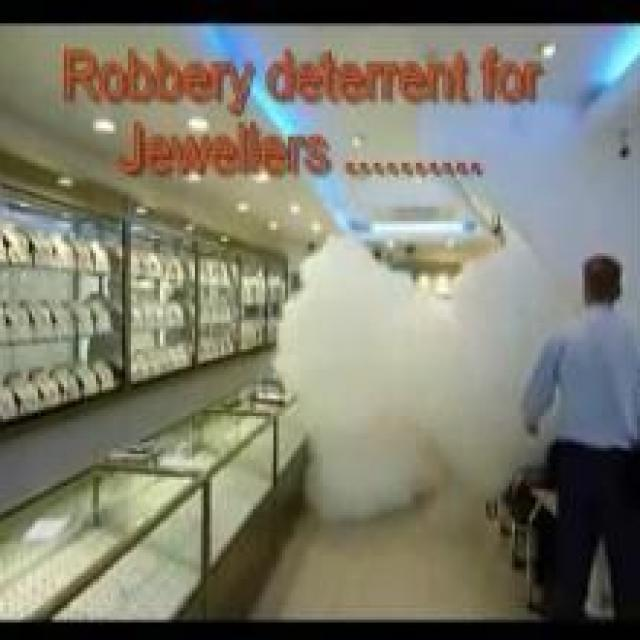fire: (260, 231, 589, 528)
